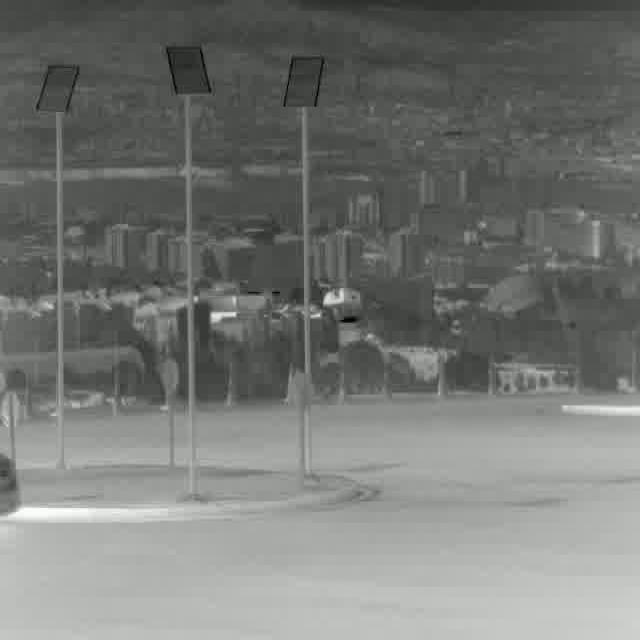Car: (0, 450, 22, 530)
